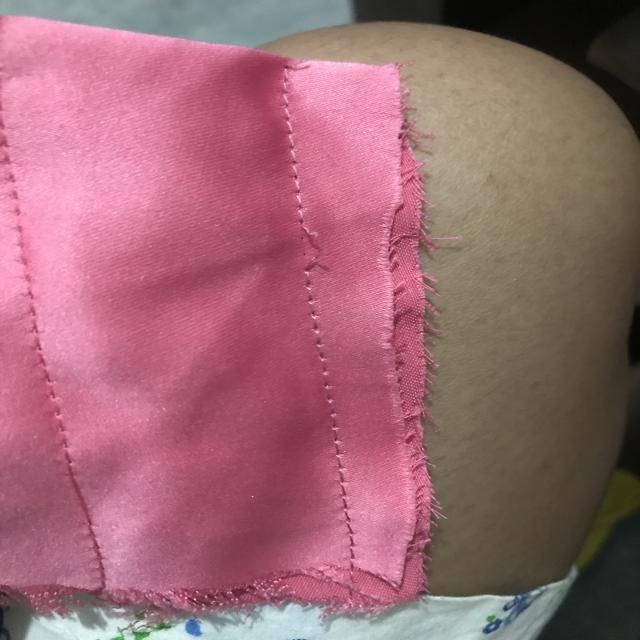broken: (285, 212, 332, 282)
good: (295, 301, 357, 449), (274, 98, 322, 198)
